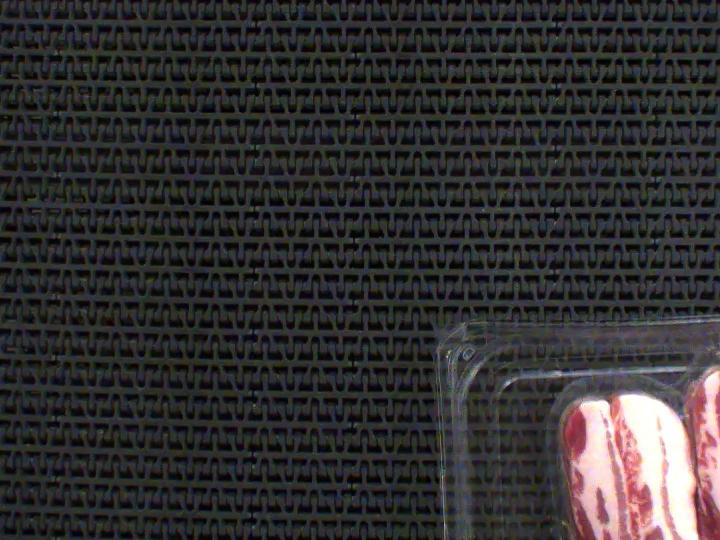unsealed: (512, 327, 720, 473)
